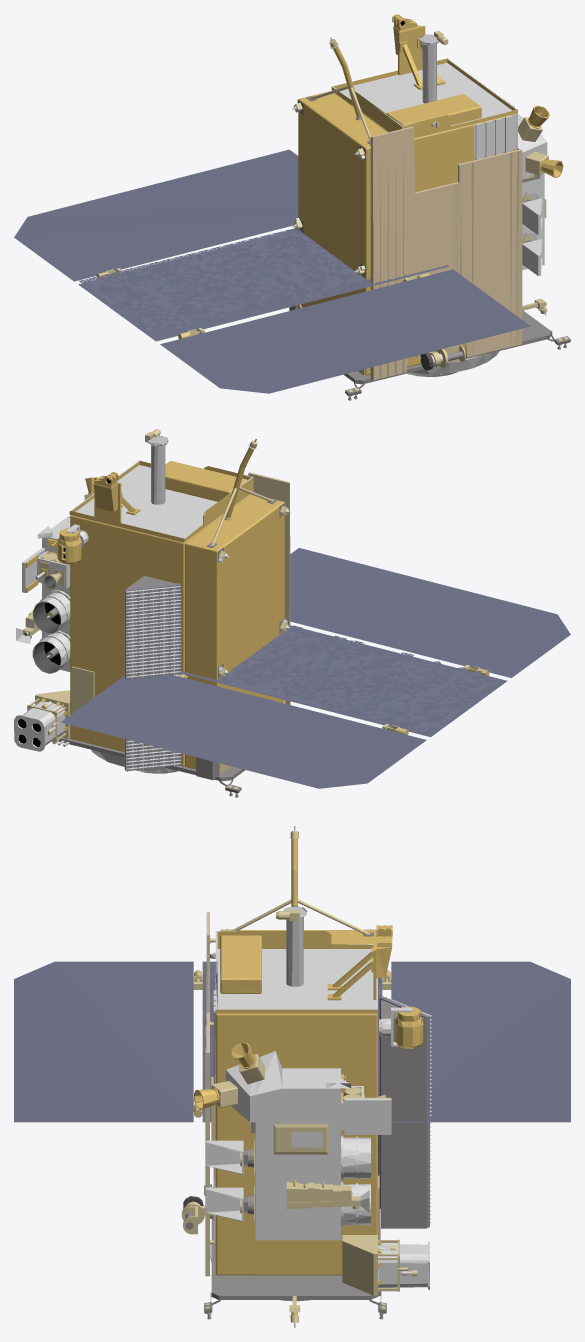
The model's file is lro.glb.
3 views of the same model, one above another, from view 1: azimuth 30°, elevation 25°; view 2: azimuth 150°, elevation 25°; view 3: azimuth 270°, elevation 25° (orthographic). The views are drawn at different scales.
Visible parts, largest first — view 1: Layer_4, Layer_0; view 2: Layer_4, Layer_0; view 3: Layer_0, Layer_4.
Boxes of the visible parts, <box> form: Layer_4: <box>14,149,530,393</box>; Layer_0: <box>289,14,570,400</box>; Layer_4: <box>61,548,570,788</box>; Layer_0: <box>14,429,290,797</box>; Layer_0: <box>181,826,431,1327</box>; Layer_4: <box>14,961,570,1122</box>.
Size of the model in its own units: 33.22 by 26.29 by 32.26.
